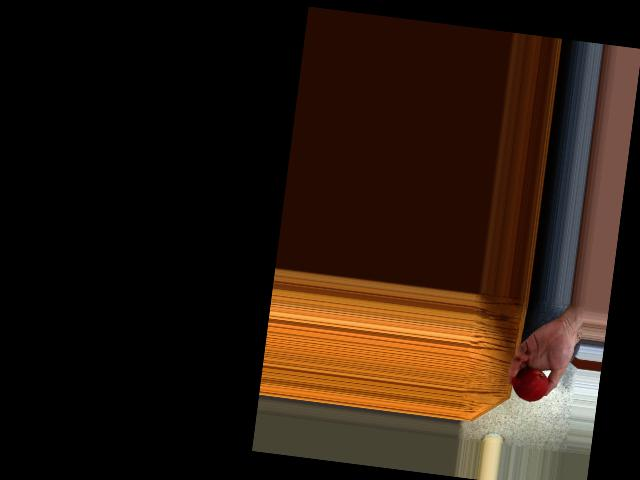apple: (509, 365, 552, 405)
